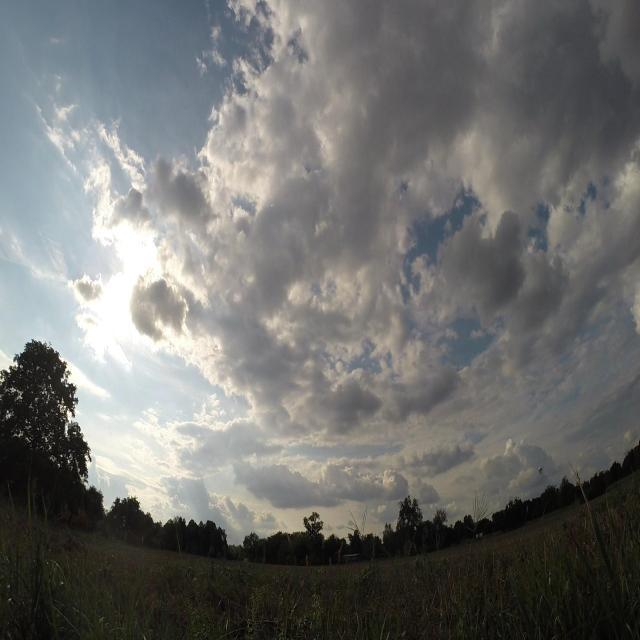drone: (534, 461, 550, 481)
